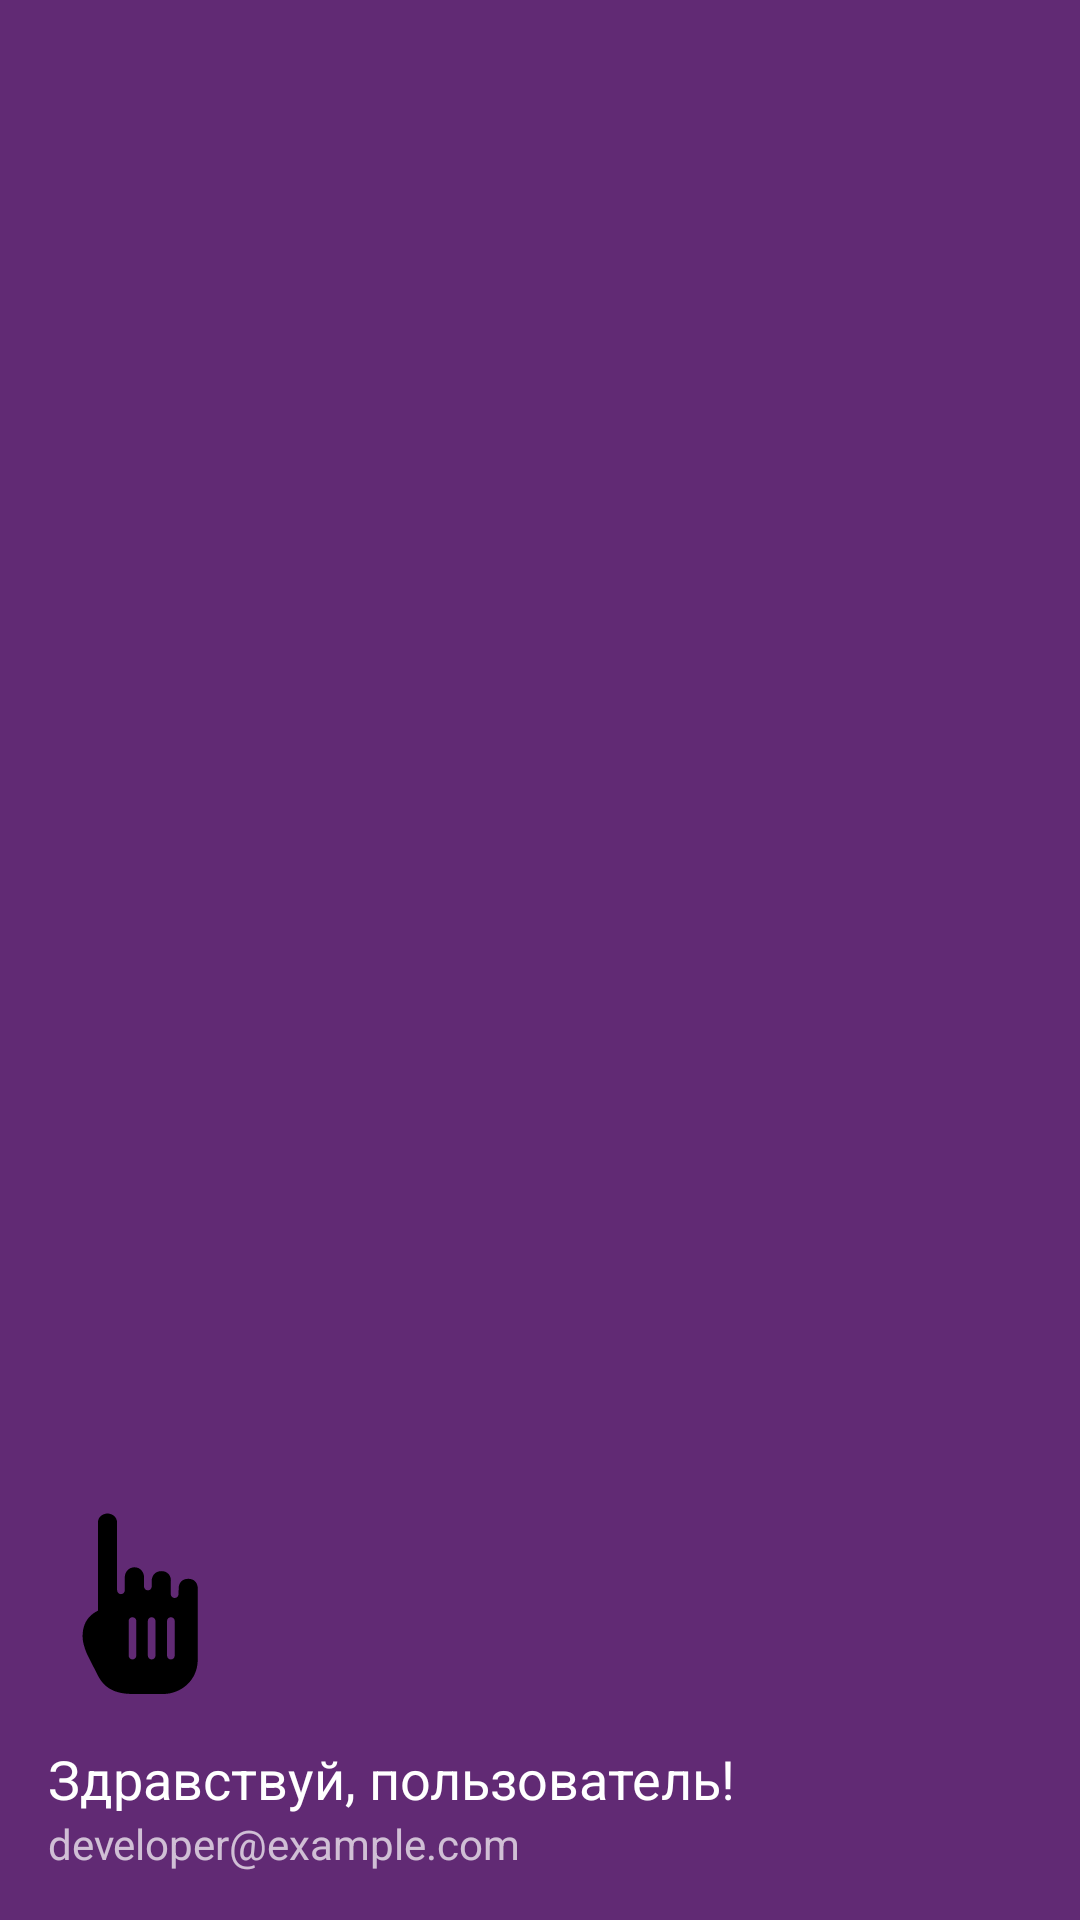

Screen size 1080*1920. Icon name, then its center in pixels as (x=x, y=y):
poke: (x=140, y=1603)
